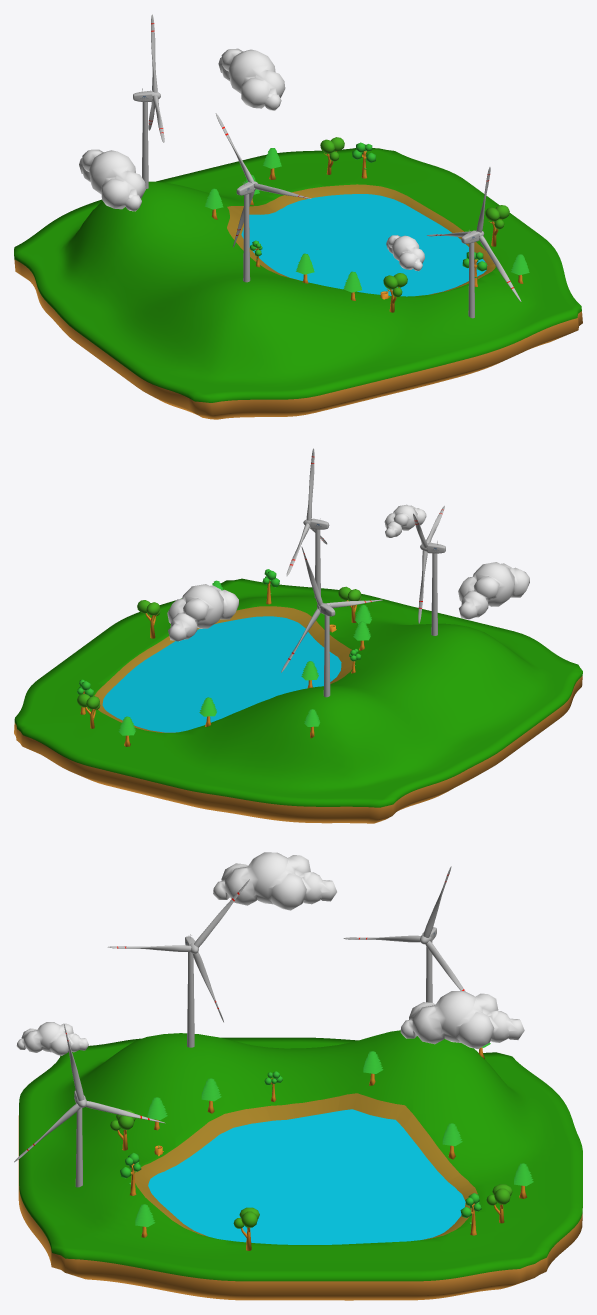
Rendered from farm windturbine monsoonwind.glb.
The picture shows the model from 3 angles, top to bottom: view 1: azimuth 30°, elevation 25°; view 2: azimuth 150°, elevation 25°; view 3: azimuth 270°, elevation 25°; orthographic projection. The views are drawn at different scales.
Visible parts, largest first — view 1: Plane, low_poly_cloud_v1, low_poly_cloud_v1.002, low_poly_cloud_v1.001, Cylinder.006, Cylinder.010; view 2: Plane, low_poly_cloud_v1, low_poly_cloud_v1.002, low_poly_cloud_v1.001, Cylinder.006, Cylinder.010; view 3: Plane, low_poly_cloud_v1.002, low_poly_cloud_v1, low_poly_cloud_v1.001, Cylinder.006.
Boxes of the visible parts, x1=… form: Plane: x1=14, y1=148, x2=582, y2=419; low_poly_cloud_v1: x1=79, y1=149, x2=145, y2=211; low_poly_cloud_v1.002: x1=218, y1=48, x2=285, y2=110; low_poly_cloud_v1.001: x1=386, y1=235, x2=424, y2=271; Cylinder.006: x1=243, y1=194, x2=250, y2=282; Cylinder.010: x1=142, y1=102, x2=148, y2=188; Plane: x1=14, y1=578, x2=582, y2=823; low_poly_cloud_v1: x1=458, y1=562, x2=529, y2=619; low_poly_cloud_v1.002: x1=167, y1=584, x2=238, y2=641; low_poly_cloud_v1.001: x1=384, y1=504, x2=426, y2=537; Cylinder.006: x1=431, y1=553, x2=437, y2=635; Cylinder.010: x1=323, y1=615, x2=330, y2=697; Plane: x1=18, y1=1030, x2=582, y2=1300; low_poly_cloud_v1.002: x1=400, y1=991, x2=524, y2=1048; low_poly_cloud_v1: x1=213, y1=852, x2=336, y2=910; low_poly_cloud_v1.001: x1=16, y1=1022, x2=88, y2=1055; Cylinder.006: x1=187, y1=952, x2=194, y2=1047.
Bounding box in the file's own units: 144 × 82.45 × 145.
13 materials, 1 textured.
